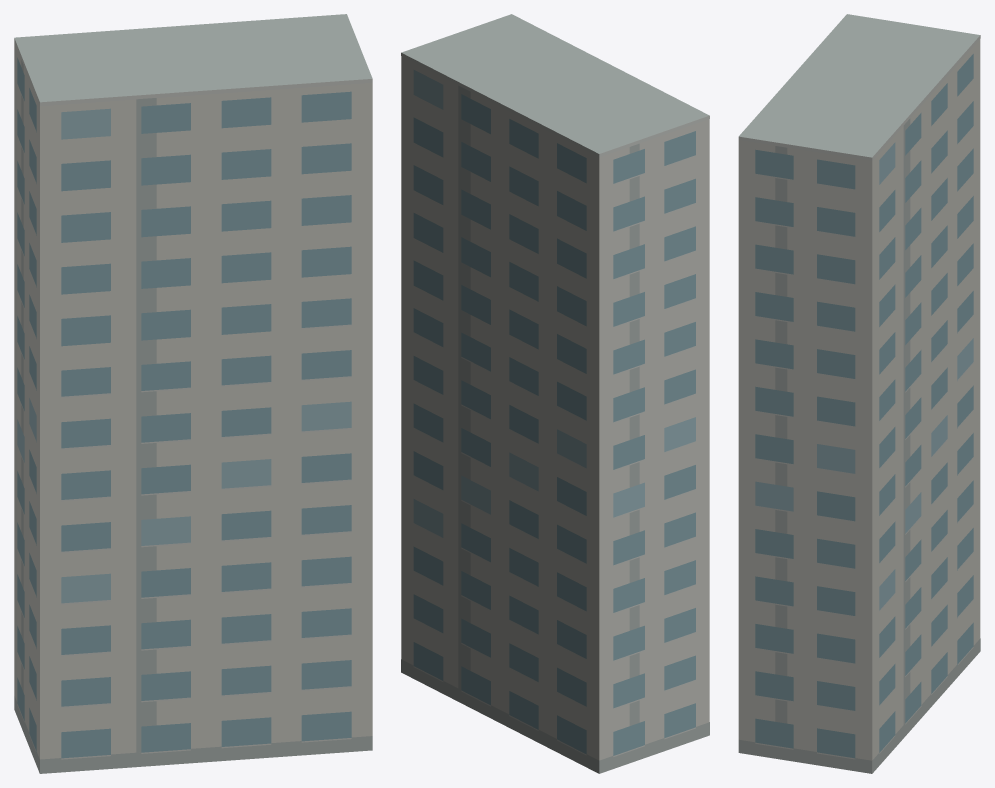
Rendered from residential-835d2518-f55a-4bca-aff4-058b51586efd.glb.
3 renders of one model, left to right at view 1: azimuth 30°, elevation 25°; view 2: azimuth 150°, elevation 25°; view 3: azimuth 270°, elevation 25°, orthographic. The views are drawn at different scales.
Visible parts, largest first — view 1: residential-835d2518-f55a-4bca-aff4-058b51586efd.tmp; view 2: residential-835d2518-f55a-4bca-aff4-058b51586efd.tmp; view 3: residential-835d2518-f55a-4bca-aff4-058b51586efd.tmp.
Boxes of the visible parts, x1,y1,x2,y2 form: residential-835d2518-f55a-4bca-aff4-058b51586efd.tmp: [14, 14, 372, 773]; residential-835d2518-f55a-4bca-aff4-058b51586efd.tmp: [401, 14, 709, 773]; residential-835d2518-f55a-4bca-aff4-058b51586efd.tmp: [738, 14, 980, 773].
Size of the model in its own units: 21.5 by 43 by 15.31.
